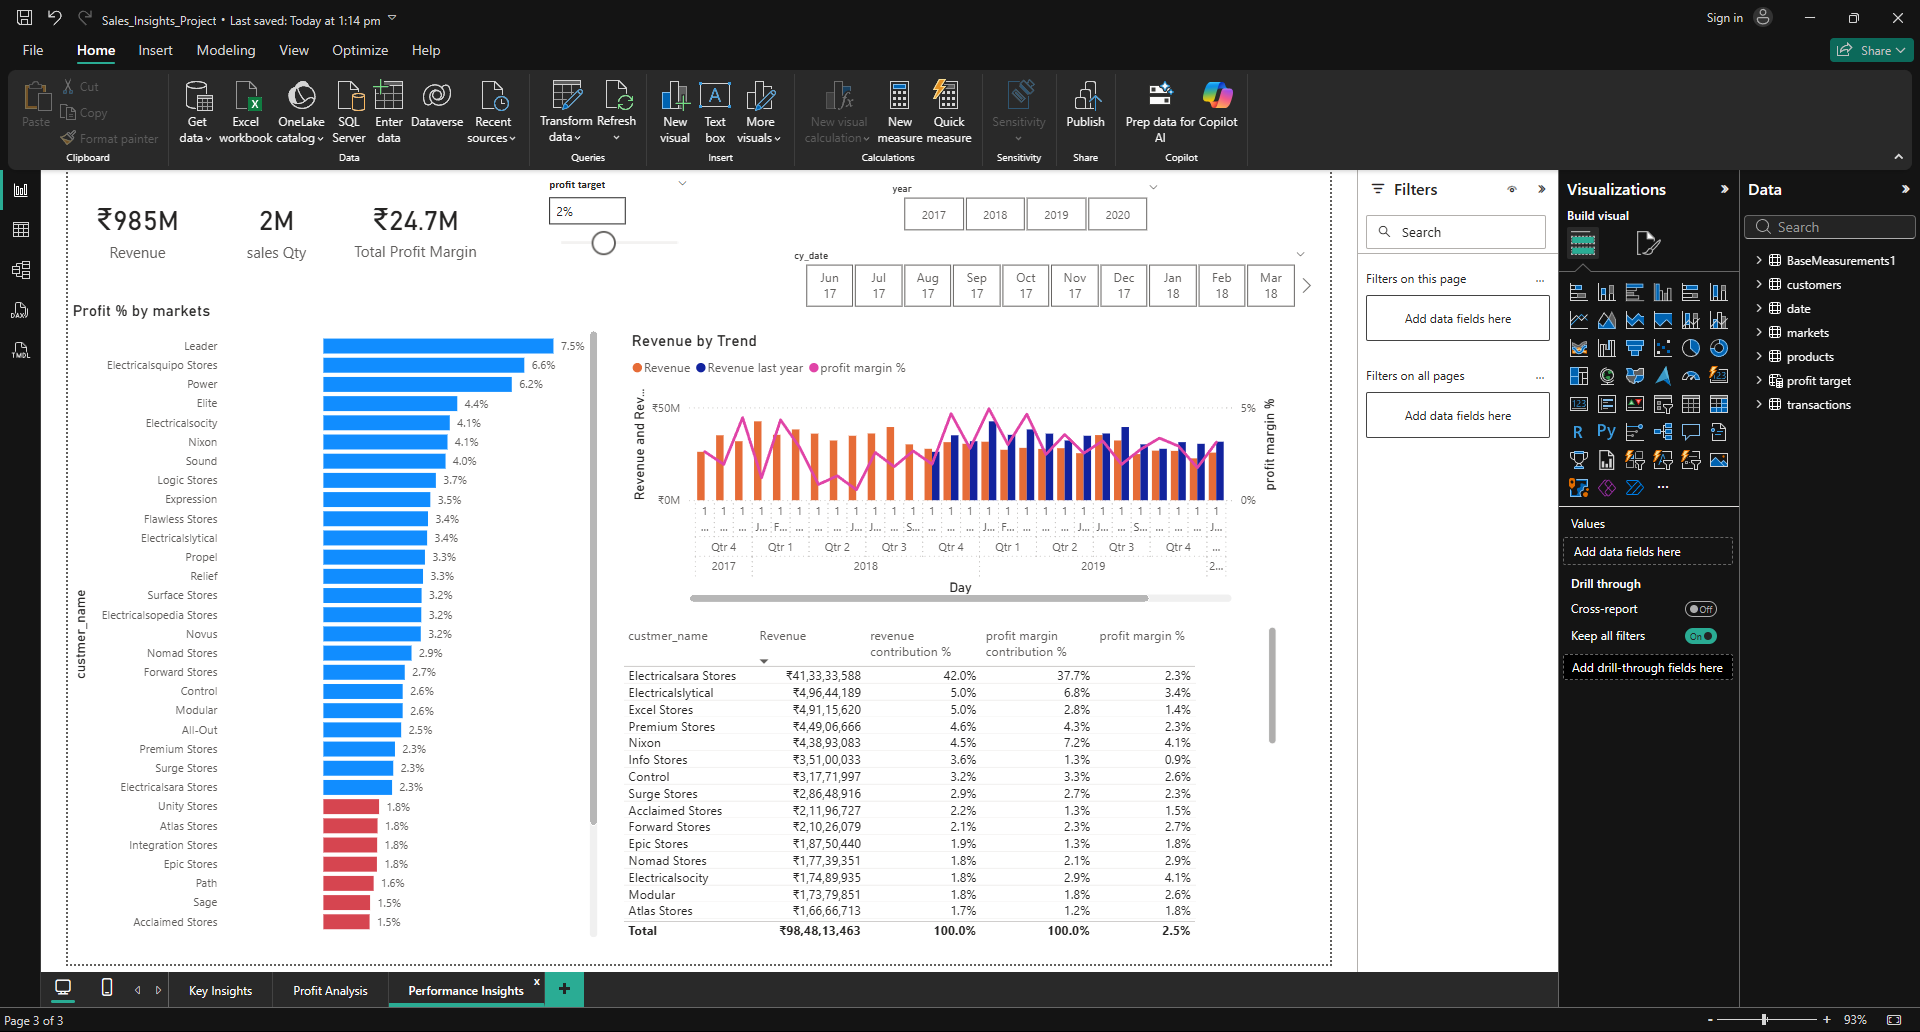

This screenshot's page, from the dashboard's own definition file:
{"tool":"powerbi","page":{"name":"Performance Insights","canvas":[1350,850],"ordinal":2},"visuals":[{"type":"card","fields":{"Values":["BaseMeasurements1.Revenue"]},"box":[0,0,148.8,126.4],"z":0},{"type":"card","fields":{"Values":["BaseMeasurements1.sales Qty"]},"box":[148.8,0,148.8,126.4],"z":1000},{"type":"slicer","fields":{"Values":["date.year"]},"box":[869.3,8.6,310.5,63.2],"z":2000},{"type":"slicer","fields":{"Values":["date.cy_date"]},"box":[764.4,80.3,572.7,72.8],"z":3000},{"type":"tableEx","title":"Top 5 customers","fields":{"Values":["customers.custmer_name","BaseMeasurements1.Revenue","BaseMeasurements1.revenue contribution %","BaseMeasurements1.profit margin contribution %","BaseMeasurements1.profit margin %"]},"box":[588.8,483.9,709.8,342.6],"z":4000},{"type":"lineClusteredColumnComboChart","title":"Revenue by Trend","fields":{"Category":["date.cy_date.Variation.Date Hierarchy.Year","date.cy_date.Variation.Date Hierarchy.Quarter","date.cy_date.Variation.Date Hierarchy.Month","date.cy_date.Variation.Date Hierarchy.Day"],"Y":["BaseMeasurements1.Revenue","BaseMeasurements1.Revenue last year"],"Y2":["BaseMeasurements1.profit margin %"]},"box":[598.4,172.4,700.1,295.5],"z":5000},{"type":"card","fields":{"Values":["BaseMeasurements1.Profit Margin"]},"box":[297.6,0,148.8,126.3],"z":6000},{"type":"barChart","title":"Profit % by markets","fields":{"Y":["BaseMeasurements1.profit margin %"],"Category":["markets.zone","markets.markets_name","customers.custmer_name"]},"box":[0,140.2,571.7,686.2],"z":7000},{"type":"slicer","fields":{"Values":["profit target.profit target"]},"box":[502.1,3.2,173.4,137],"z":8000}]}

Visuals, with their boxes on the page's 1350x850 design canvas (x1, y1, x2, y2). These are canvas units, not pixel positions in the 1920x1032 screenshot, which may show the page scaled, cropped or inside an application window:
card - BaseMeasurements1.Revenue: {"left": 0, "top": 0, "right": 149, "bottom": 126}
card - BaseMeasurements1.sales Qty: {"left": 149, "top": 0, "right": 298, "bottom": 126}
slicer - date.year: {"left": 869, "top": 9, "right": 1180, "bottom": 72}
slicer - date.cy_date: {"left": 764, "top": 80, "right": 1337, "bottom": 153}
"Top 5 customers" tableEx: {"left": 589, "top": 484, "right": 1299, "bottom": 826}
"Revenue by Trend" lineClusteredColumnComboChart: {"left": 598, "top": 172, "right": 1298, "bottom": 468}
card - BaseMeasurements1.Profit Margin: {"left": 298, "top": 0, "right": 446, "bottom": 126}
"Profit % by markets" barChart: {"left": 0, "top": 140, "right": 572, "bottom": 826}
slicer - profit target.profit target: {"left": 502, "top": 3, "right": 676, "bottom": 140}
